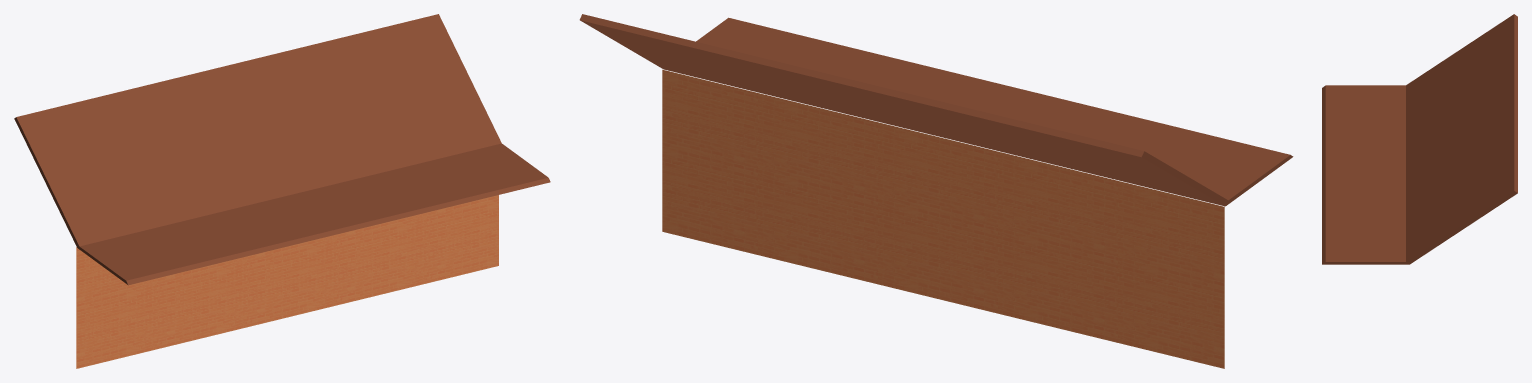
File: update_map.fbx
The picture shows the model from 3 angles, left to right: view 1: azimuth 30°, elevation 25°; view 2: azimuth 150°, elevation 25°; view 3: azimuth 270°, elevation 25°; orthographic projection. The views are drawn at different scales.
Visible parts, largest first — view 1: Cube.006, Plane; view 2: Plane, Cube.006; view 3: Cube.006.
Part boxes in pixels (bbox=[...]): Cube.006: bbox=[14, 14, 550, 285]; Plane: bbox=[76, 195, 498, 368]; Plane: bbox=[662, 69, 1224, 368]; Cube.006: bbox=[579, 14, 1293, 206]; Cube.006: bbox=[1322, 14, 1517, 264].
Size of the model in its own units: 4199 by 1973 by 1964.
